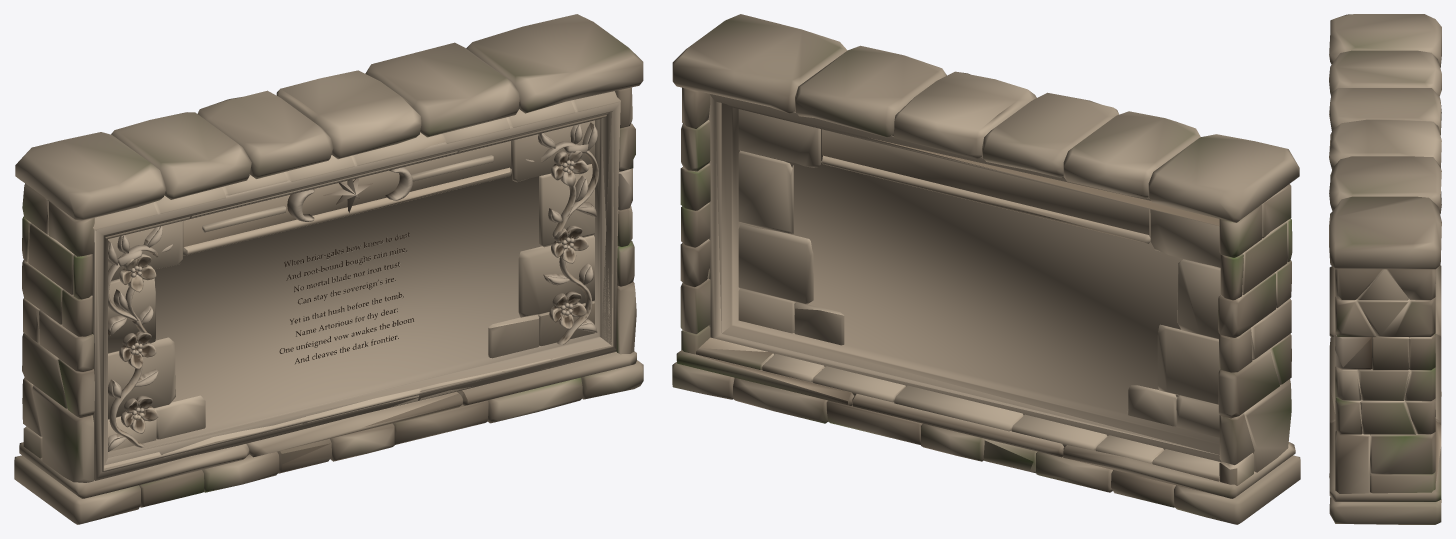
File: site3-wall-live.glb
3 renders of one model, left to right at view 1: azimuth 30°, elevation 25°; view 2: azimuth 150°, elevation 25°; view 3: azimuth 270°, elevation 25°, orthographic. The views are drawn at different scales.
Parts seen in each view (by area): view 1: Monument_site3; view 2: Monument_site3; view 3: Monument_site3.
Boxes of the visible parts, box(x1,y1,x2,y2) form: Monument_site3: box(14, 14, 643, 524); Monument_site3: box(672, 14, 1300, 524); Monument_site3: box(1329, 14, 1441, 524).
Size of the model in its own units: 3.35 by 1.87 by 0.6788.
